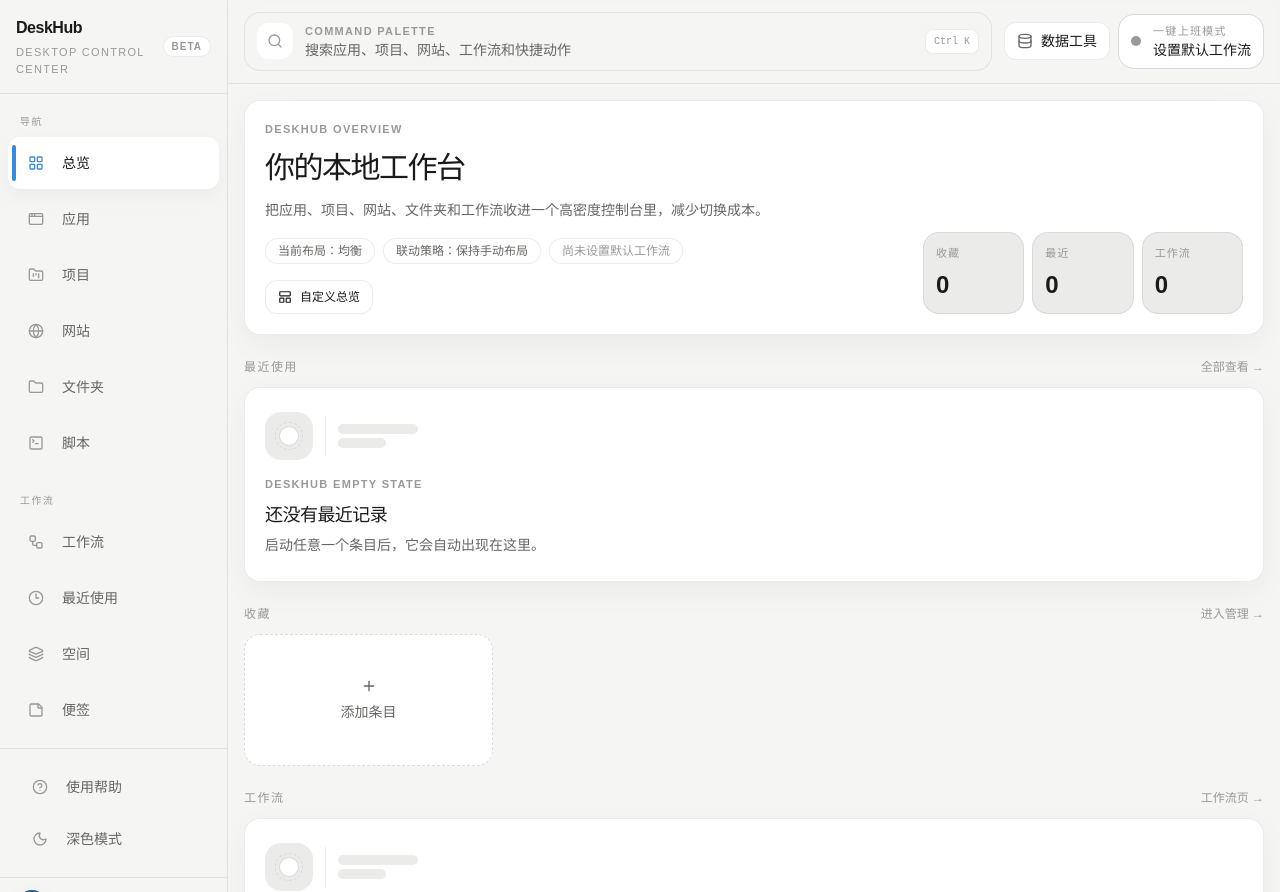
Test: AppRouter › can search to a route entry in the command palette
The width and height of the screenshot is (1280, 892).
Expected: the button "添加条目" is shown, top-left (244, 634), bottom-right (493, 766)
Step 1. Press k
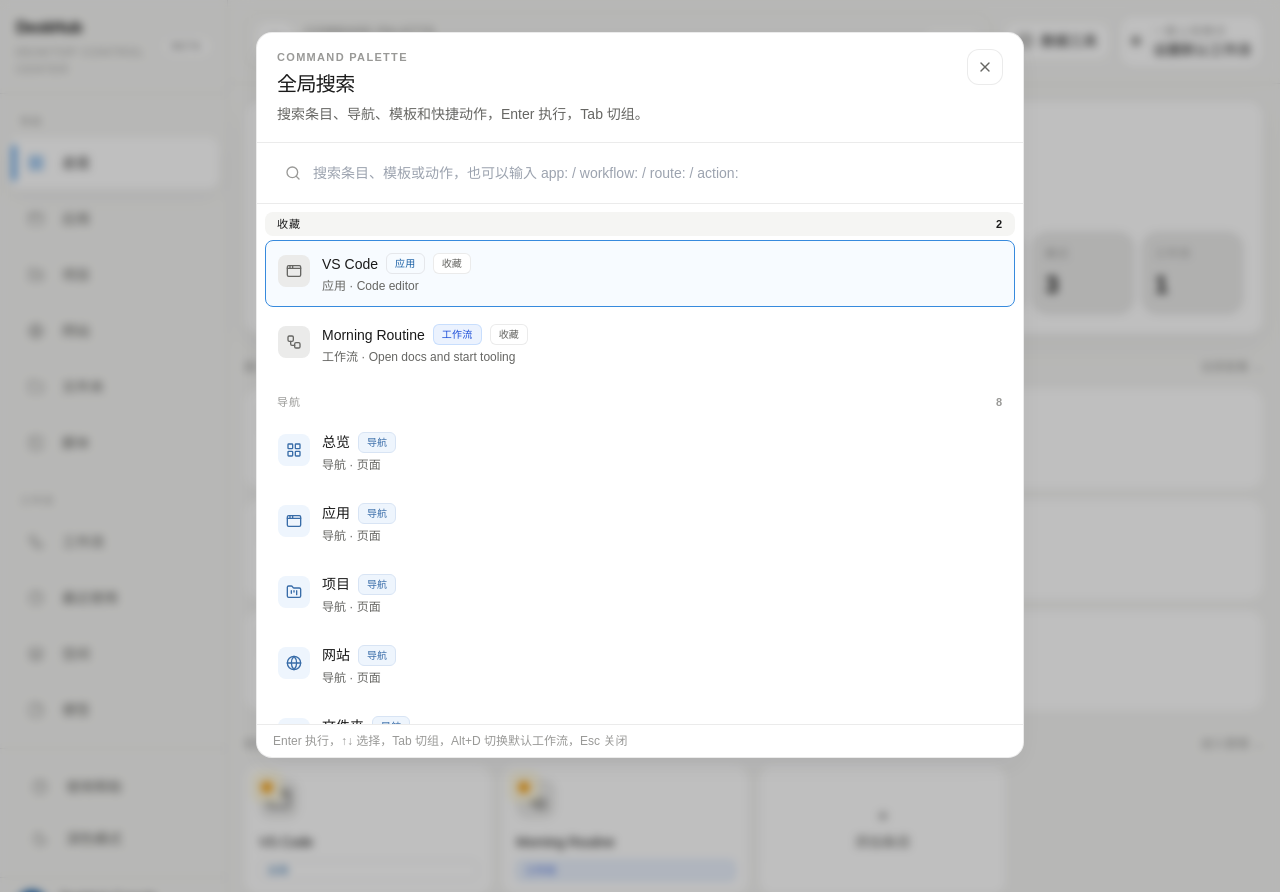
Step 2. Type "route: 最近" into the dropdown named "全局搜索" → (640, 172), box top-left (273, 154), bottom-right (1007, 190)
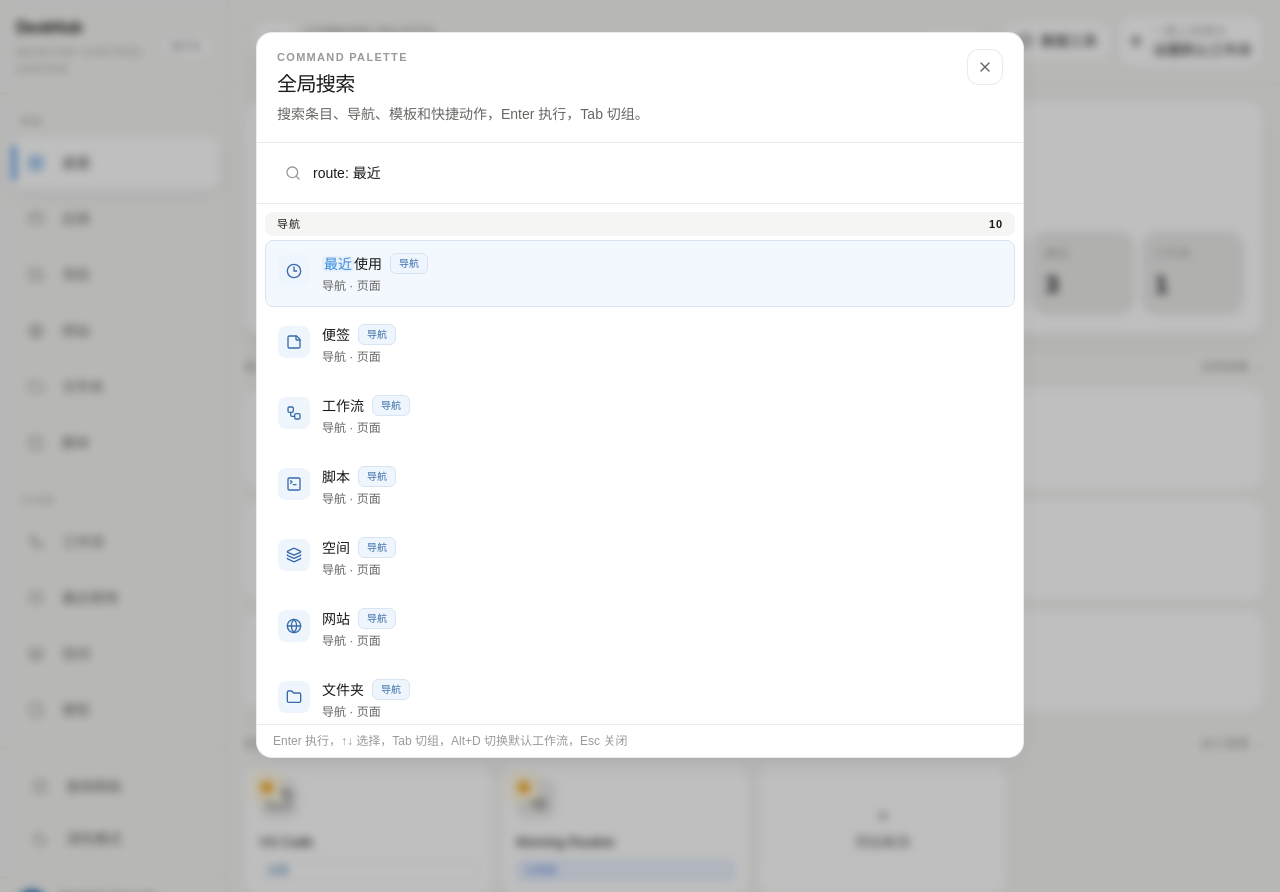
Step 3. Click the option "最近使用 导航 导航 · 页面" → (294, 271), box top-left (265, 240), bottom-right (1015, 307)
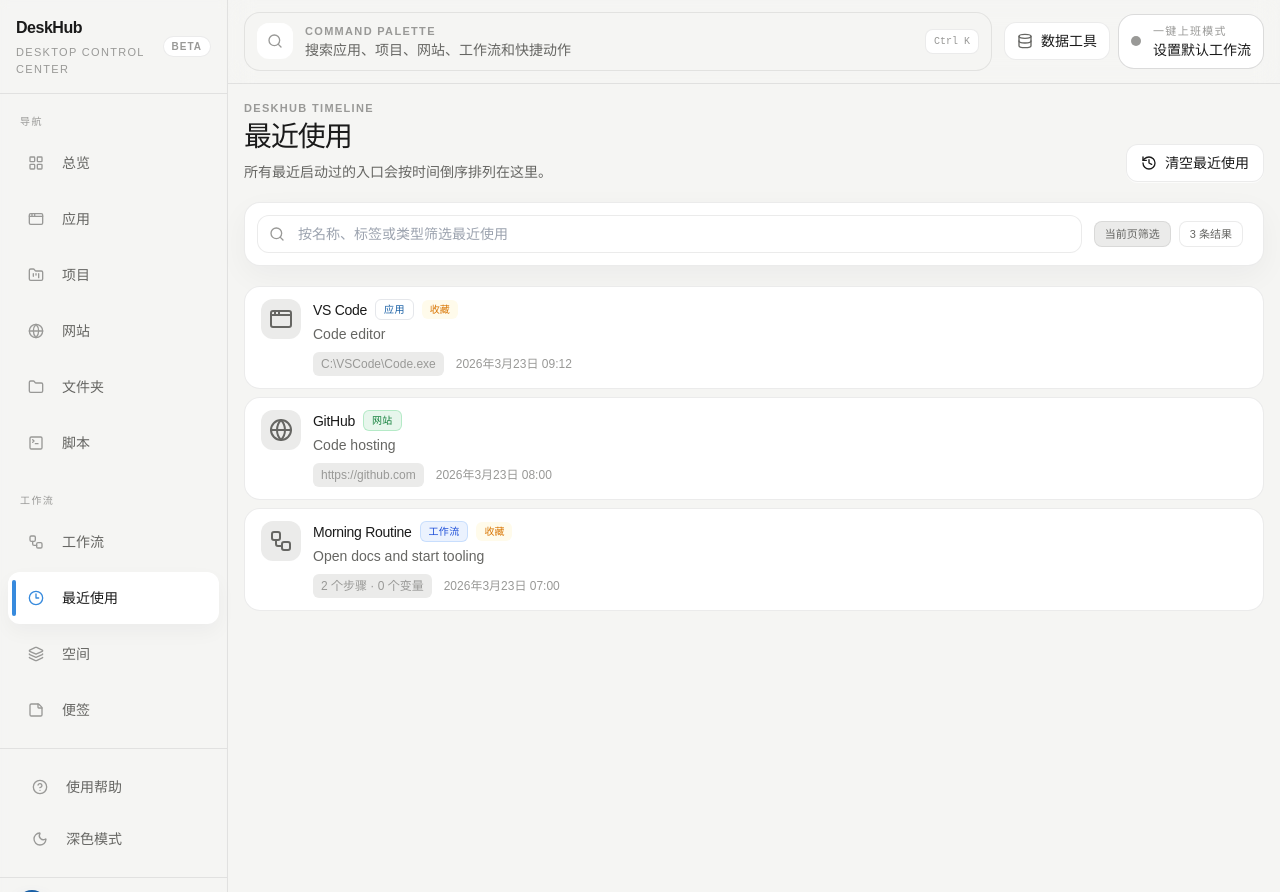
Expected: the button "清空最近使用" is shown, top-left (1126, 144), bottom-right (1264, 182)
